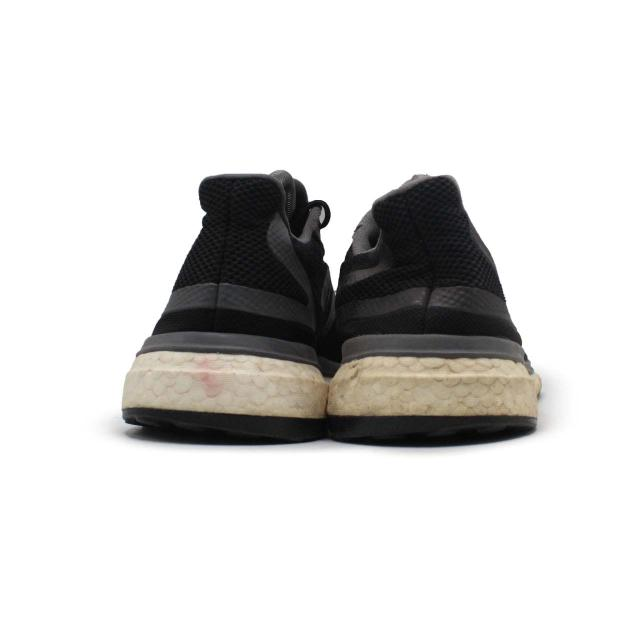heel: (148, 158, 328, 348), (353, 178, 514, 340)
midsole: (332, 333, 539, 429), (118, 348, 332, 433)
